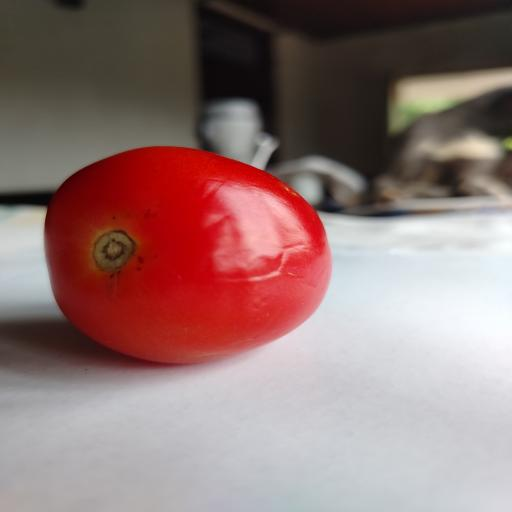overipe: (45, 147, 331, 363)
